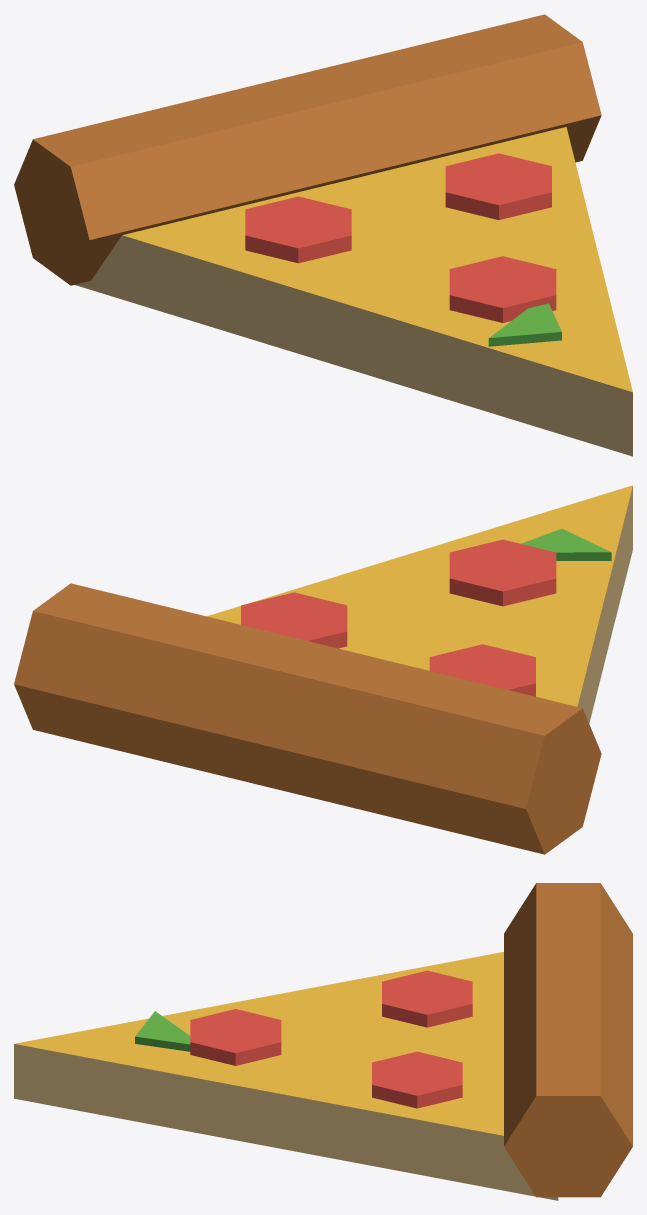
The model's file is J_PizzaSlice.fbx.
3 renders of one model, top to bottom at view 1: azimuth 30°, elevation 25°; view 2: azimuth 150°, elevation 25°; view 3: azimuth 270°, elevation 25°, orthographic. The views are drawn at different scales.
Parts seen in each view (by area): view 1: J_PizzaSlice; view 2: J_PizzaSlice; view 3: J_PizzaSlice.
Part boxes in pixels (bbox=[...]): J_PizzaSlice: bbox=[14, 14, 632, 456]; J_PizzaSlice: bbox=[14, 485, 632, 854]; J_PizzaSlice: bbox=[14, 883, 632, 1200].
Size of the model in its own units: 0.5 by 0.1194 by 0.614.
